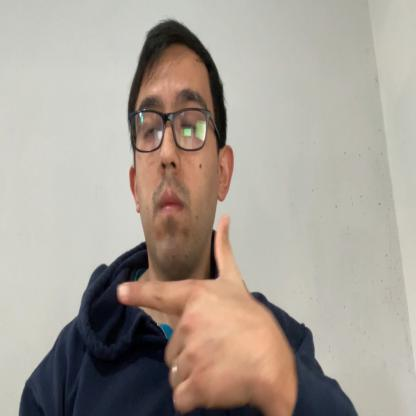G: (118, 213, 259, 412)
